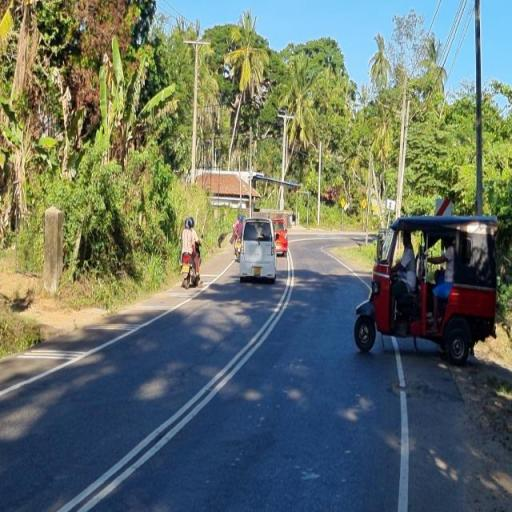double_white_line: (53, 249, 296, 512)
